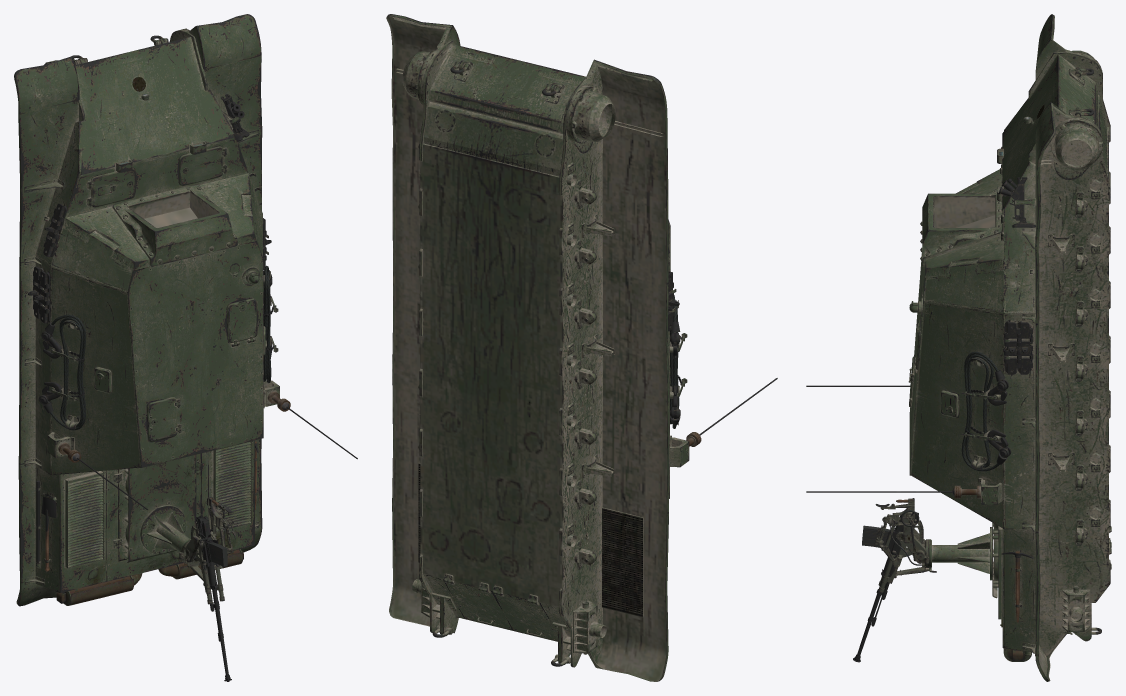
File: Hull.glb
3 renders of one model, left to right at view 1: azimuth 30°, elevation 25°; view 2: azimuth 150°, elevation 25°; view 3: azimuth 270°, elevation 25°, orthographic. The views are drawn at different scales.
Parts seen in each view (by area): view 1: set_0_group_0, set_0_group_1; view 2: set_0_group_0, set_0_group_1; view 3: set_0_group_0, set_0_group_1.
Boxes of the visible parts, x1=… form: set_0_group_0: x1=14, y1=14, x2=357, y2=606; set_0_group_1: x1=28, y1=93, x2=278, y2=681; set_0_group_0: x1=386, y1=14, x2=777, y2=681; set_0_group_1: x1=668, y1=248, x2=687, y2=428; set_0_group_0: x1=806, y1=14, x2=1111, y2=681; set_0_group_1: x1=853, y1=116, x2=1036, y2=662.
Bounding box in the file's own units: 3.3 × 7.47 × 3.5.
2 materials, 2 textured.
